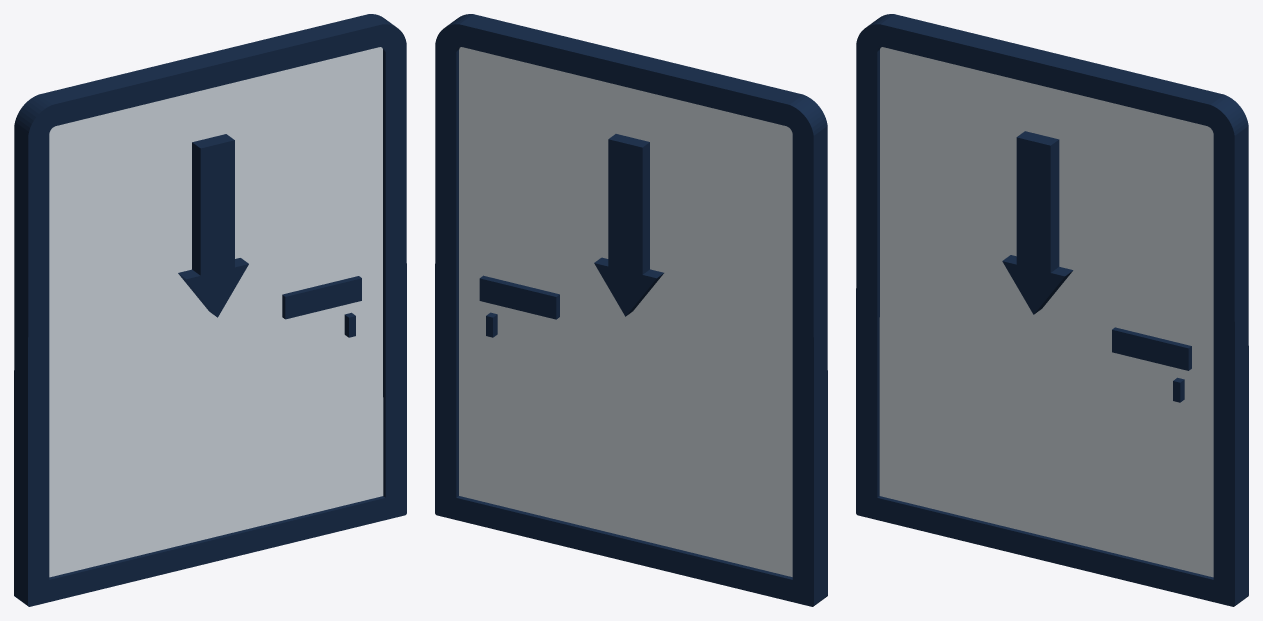
File: d-icons-door-out.glb
3 views of the same model, side by side, from view 1: azimuth 30°, elevation 25°; view 2: azimuth 150°, elevation 25°; view 3: azimuth 330°, elevation 25° (orthographic).
Parts seen in each view (by area): view 1: Curve.001; view 2: Curve.001; view 3: Curve.001.
Part boxes in pixels (x1,y1,x2,y2): Curve.001: [14, 14, 406, 606]; Curve.001: [435, 14, 827, 606]; Curve.001: [856, 14, 1248, 606].
Bounding box in the file's own units: 0.4013 × 0.5025 × 0.0456.
Materials: 1 (1 with a texture image).
